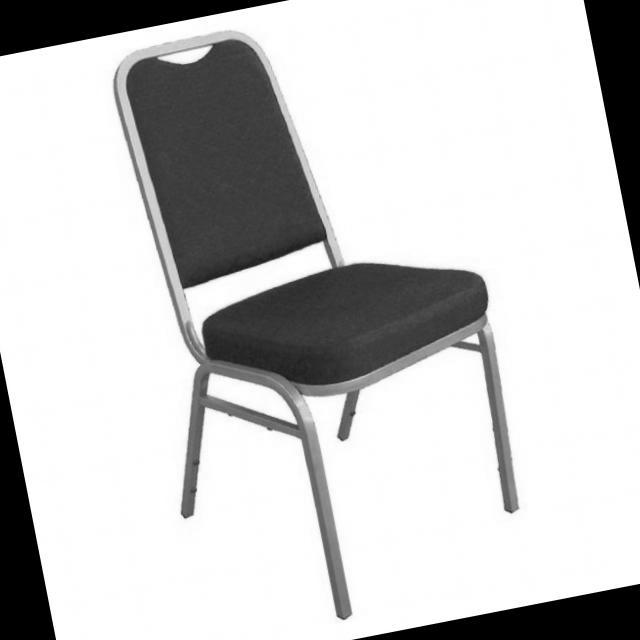chair: (84, 0, 546, 640)
